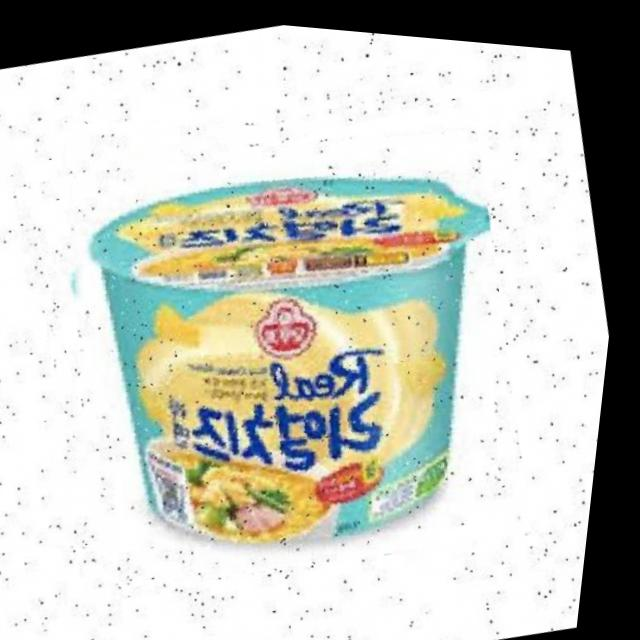Miscellaneous: (0, 33, 581, 632)
